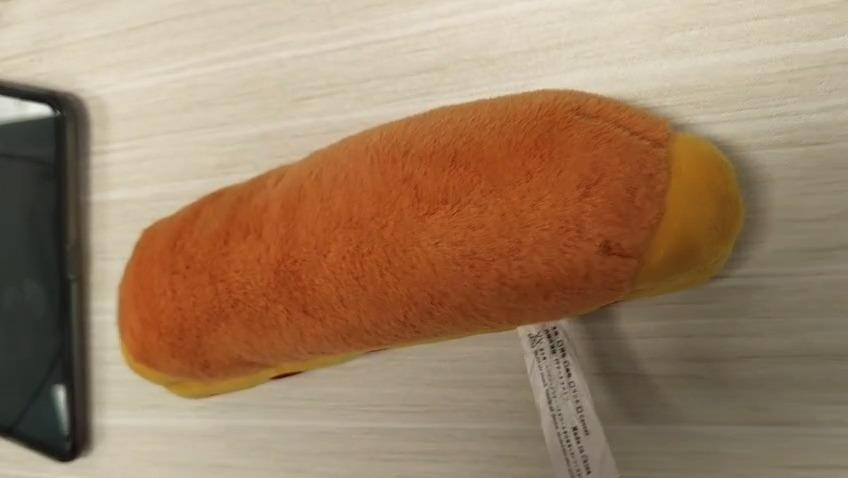hotdog: (117, 89, 746, 400)
